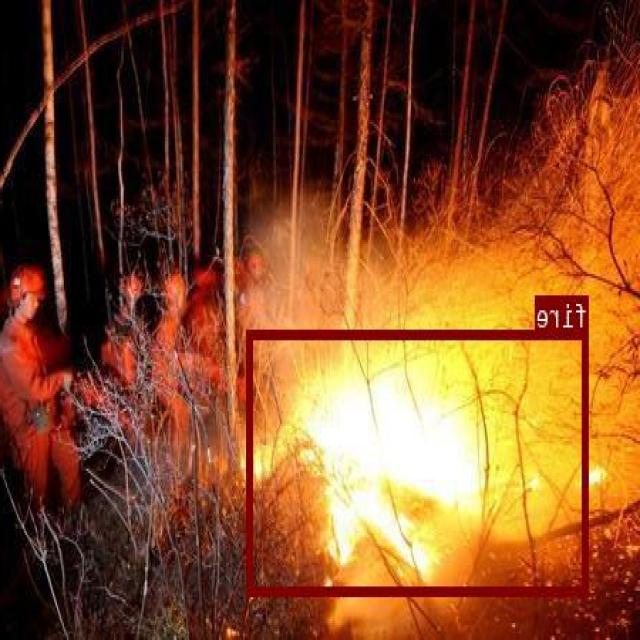fire: (248, 328, 590, 593)
